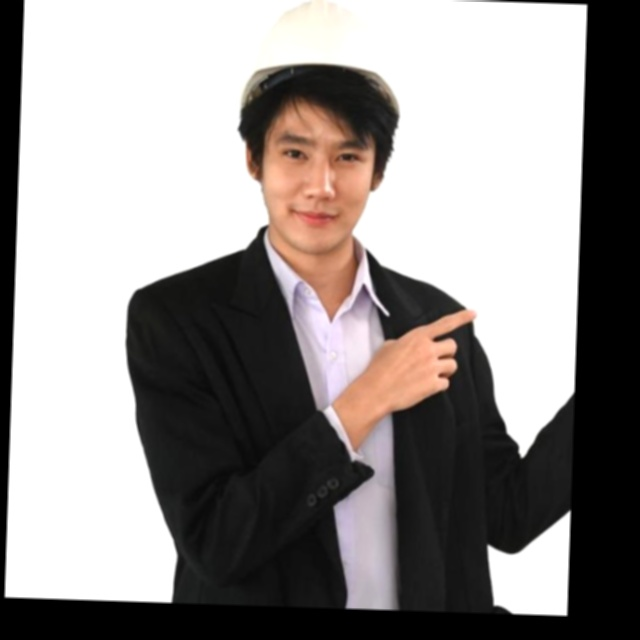Con_Casco: (228, 0, 406, 255)
Sin_Chaleco: (120, 251, 499, 613)
